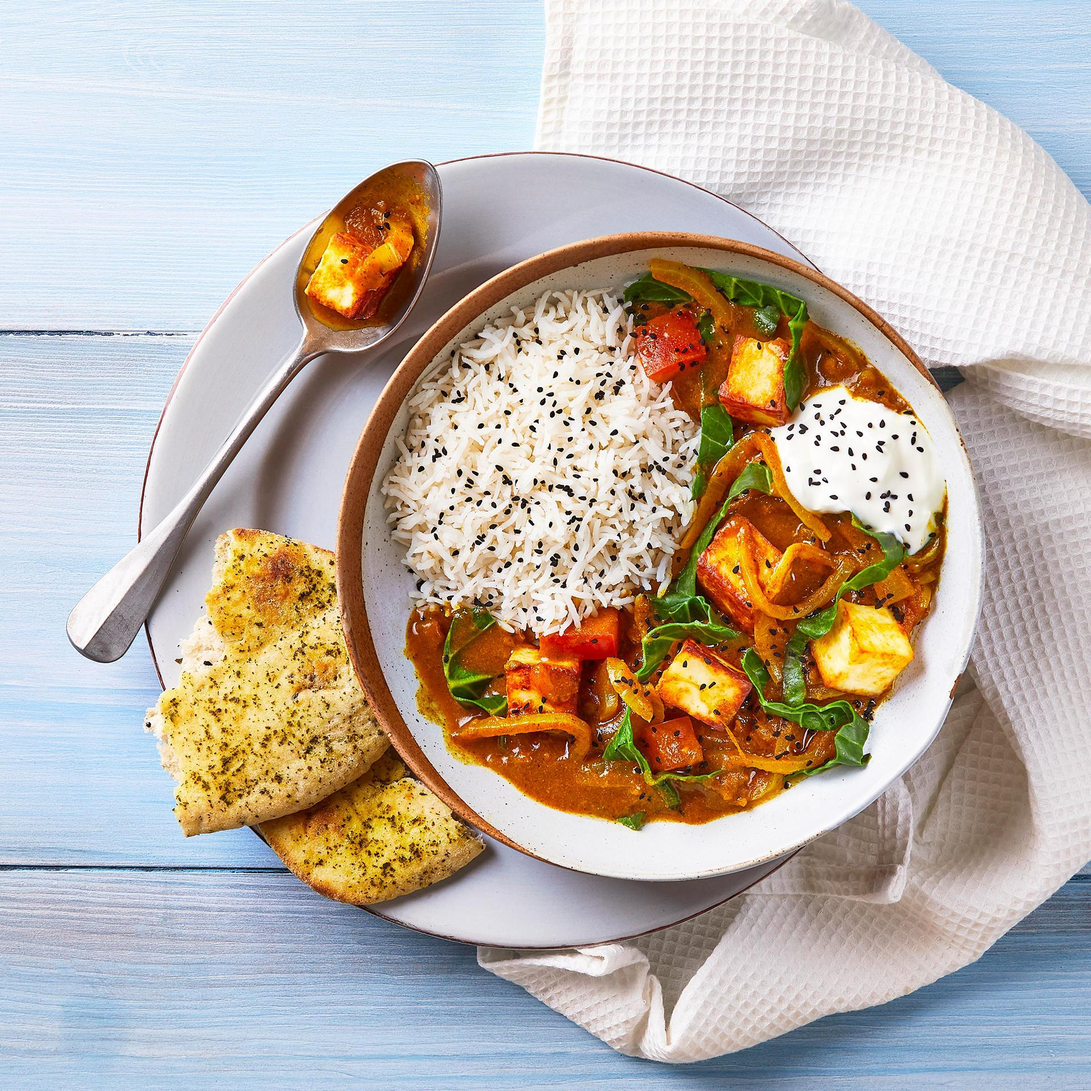rice: (351, 313, 700, 608)
